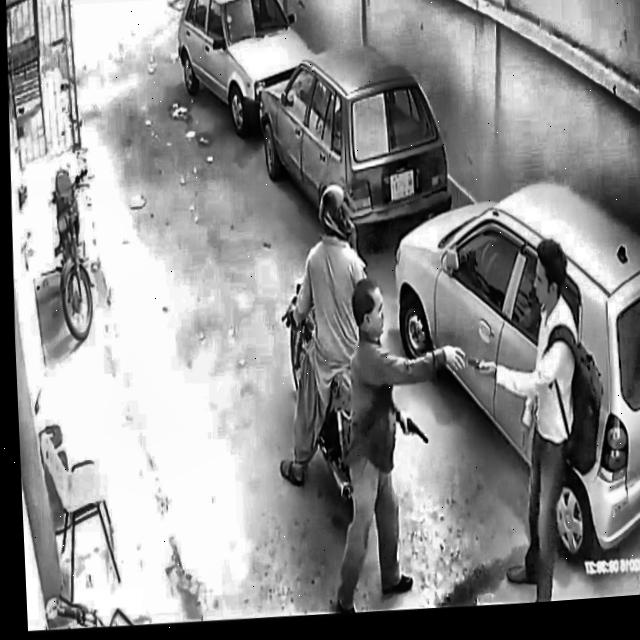pistol: (381, 402, 440, 468)
robbery: (250, 132, 617, 622)
